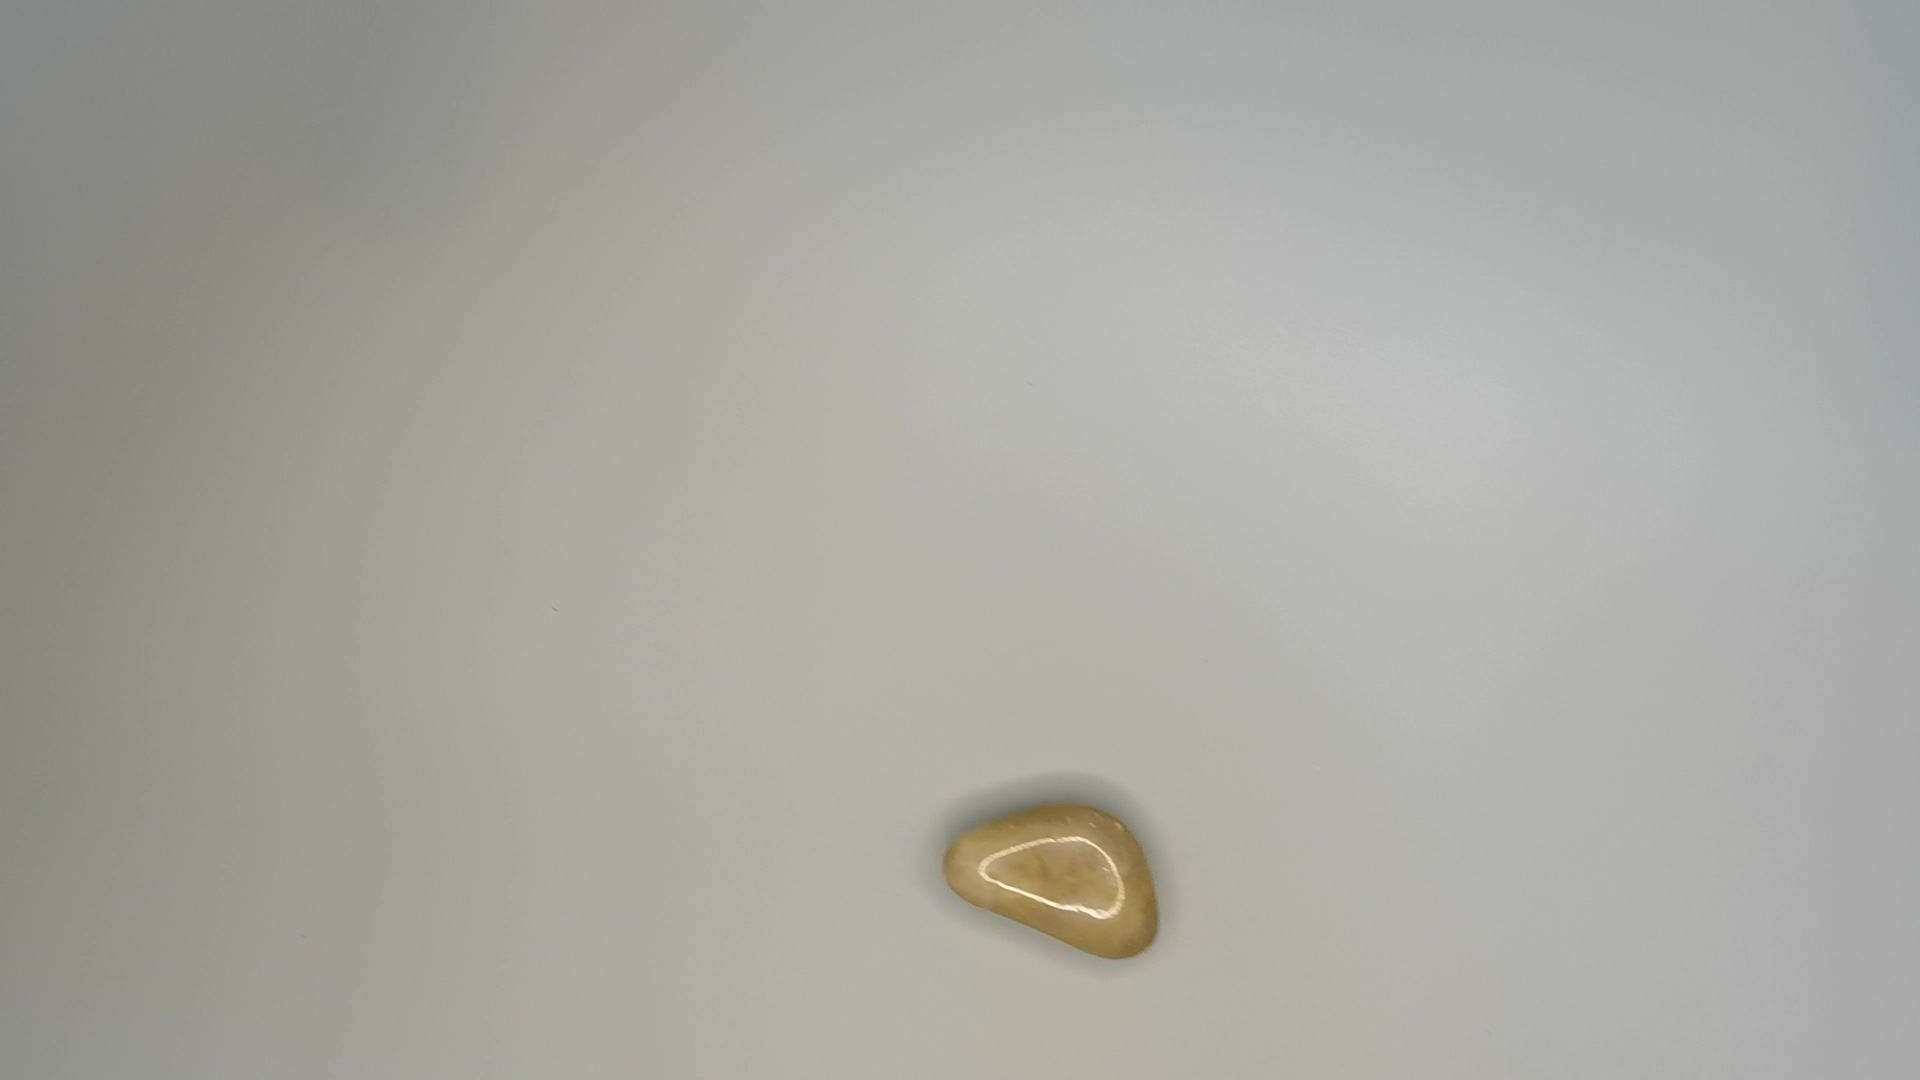ceramic: (943, 800, 1153, 964)
